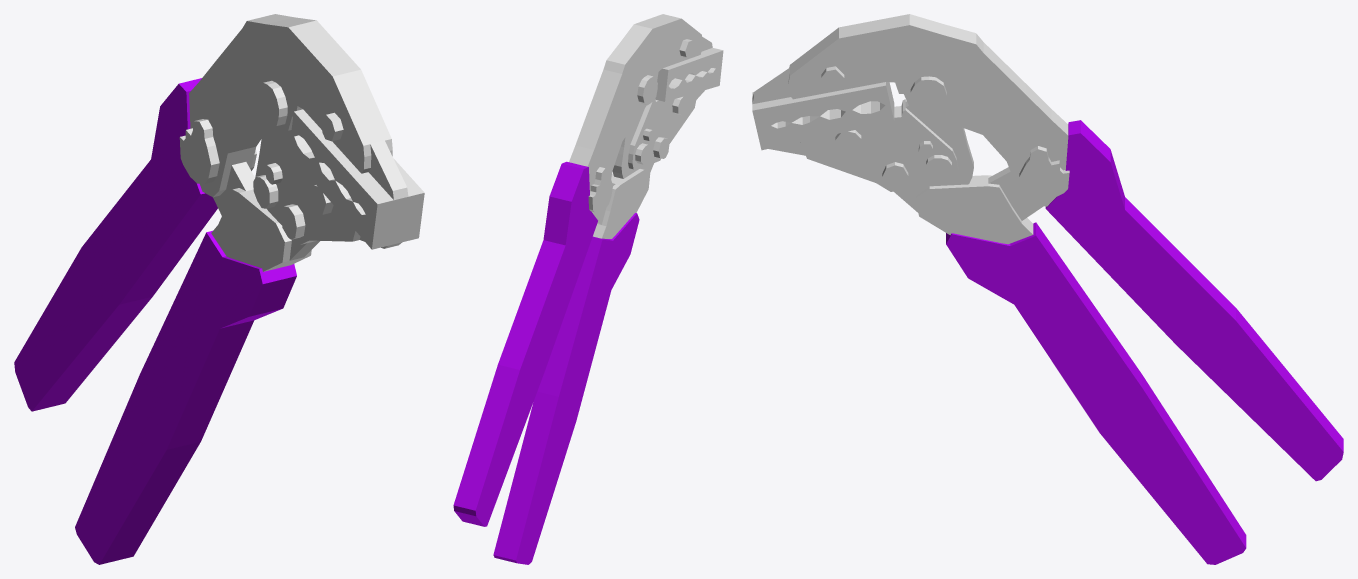
File: crimpers.fbx
The picture shows the model from 3 angles, left to right: view 1: azimuth 30°, elevation 25°; view 2: azimuth 150°, elevation 25°; view 3: azimuth 270°, elevation 25°; orthographic projection. The views are drawn at different scales.
Visible parts, largest first — view 1: Cube.001, Cube; view 2: Cube.001, Cube; view 3: Cube.001, Cube.
Part boxes in pixels (x1=…): Cube.001: x1=14, y1=78, x2=296, y2=564; Cube: x1=179, y1=14, x2=424, y2=271; Cube.001: x1=453, y1=161, x2=639, y2=564; Cube: x1=569, y1=14, x2=723, y2=238; Cube.001: x1=946, y1=120, x2=1343, y2=564; Cube: x1=752, y1=14, x2=1069, y2=244.
Bounding box in the file's own units: 34.89 × 476 × 474.
